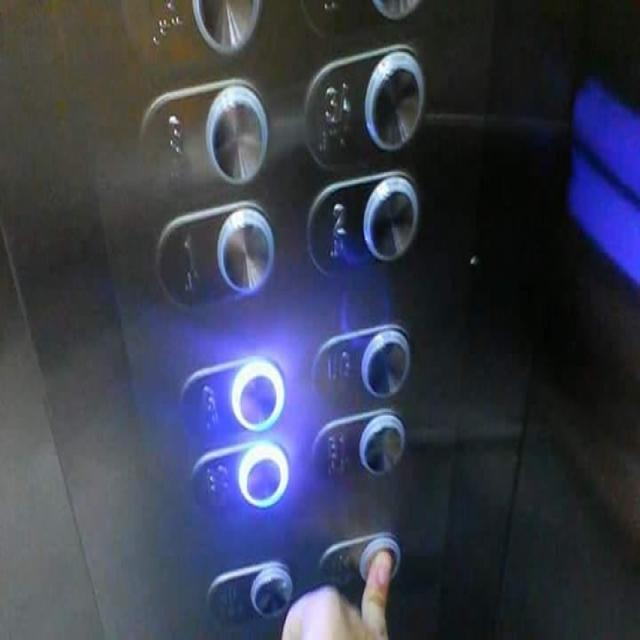1: (156, 200, 275, 312)
2: (304, 166, 420, 278)
3: (140, 72, 269, 199)
3A: (301, 41, 426, 168)
B1: (309, 409, 406, 480)
B2: (190, 439, 290, 512)
G: (175, 352, 284, 443)
LG: (310, 323, 413, 405)
close: (315, 526, 402, 594)
open: (205, 556, 292, 629)
